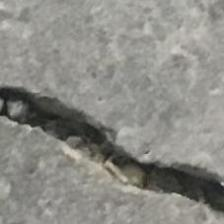Crack: (0, 89, 224, 224)
